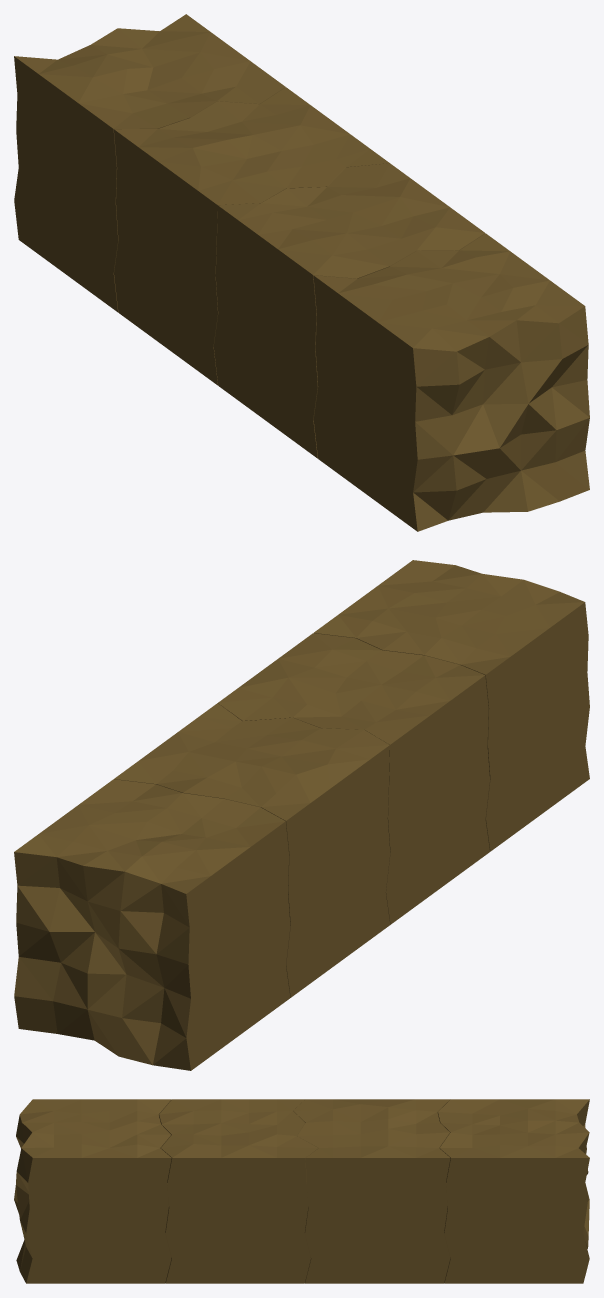
File: SM_path_DE.fbx
The picture shows the model from 3 angles, top to bottom: view 1: azimuth 30°, elevation 25°; view 2: azimuth 150°, elevation 25°; view 3: azimuth 270°, elevation 25°; orthographic projection. The views are drawn at different scales.
Parts seen in each view (by area): view 1: SM_path_1_DE, SM_path_rightmid_DE, SM_path_leftmid_DE, SM_path_2_DE; view 2: SM_path_2_DE, SM_path_1_DE, SM_path_rightmid_DE, SM_path_leftmid_DE; view 3: SM_path_1_DE, SM_path_2_DE, SM_path_rightmid_DE, SM_path_leftmid_DE.
Part boxes in pixels (x1,y1,x2,y2): SM_path_1_DE: (313,233,589,531); SM_path_rightmid_DE: (114,87,389,385); SM_path_leftmid_DE: (213,163,485,458); SM_path_2_DE: (14,14,285,312); SM_path_2_DE: (14,779,290,1070); SM_path_1_DE: (314,560,589,851); SM_path_rightmid_DE: (114,703,390,997); SM_path_leftmid_DE: (218,633,489,924); SM_path_1_DE: (14,1099,171,1283); SM_path_2_DE: (438,1099,589,1283); SM_path_rightmid_DE: (293,1099,450,1283); SM_path_leftmid_DE: (159,1099,318,1283).
Bounding box in the file's own units: 120 × 498 × 124.
